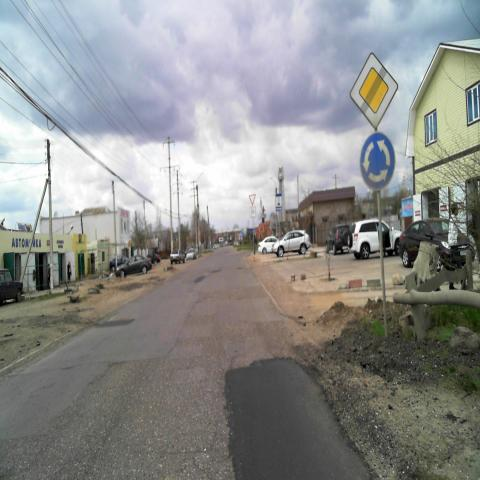2_2: (350, 53, 398, 130)
2_4: (250, 194, 255, 206)
4_3: (360, 130, 396, 190)
7_5: (275, 193, 282, 211)
